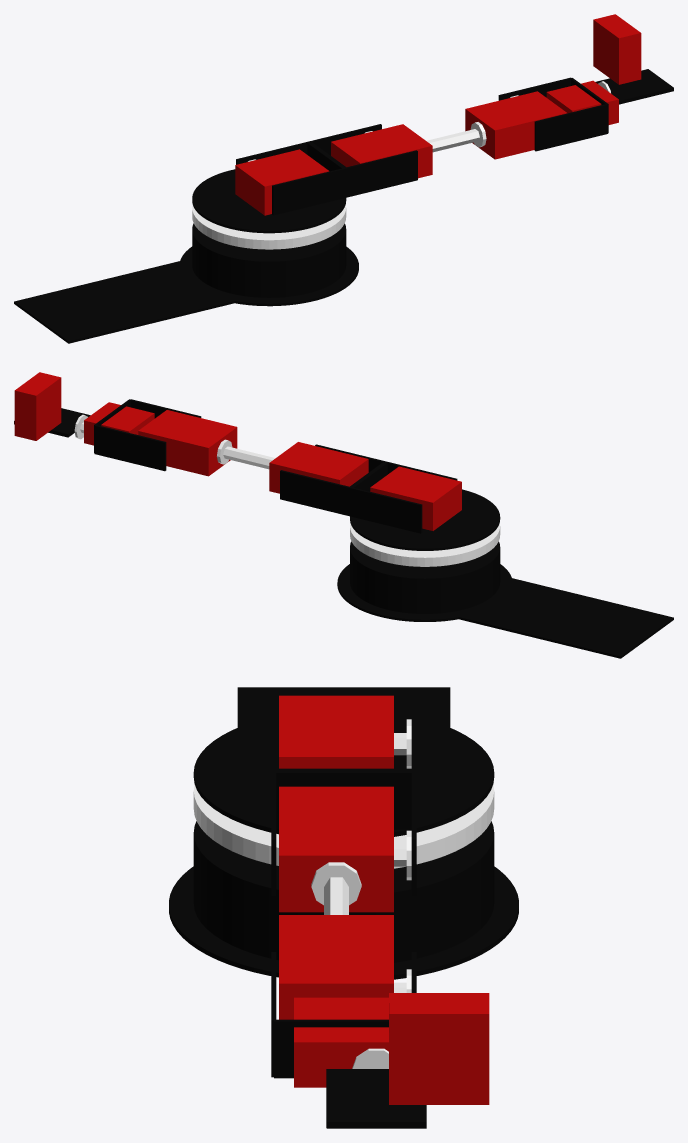
Rendered from robot_arm_hand.dae.
3 renders of one model, top to bottom at view 1: azimuth 30°, elevation 25°; view 2: azimuth 150°, elevation 25°; view 3: azimuth 270°, elevation 25°, orthographic. The views are drawn at different scales.
Visible parts, largest first — view 1: base_box, base_black, base_link_rot, link3, link1, link2, right_finger_servo, base_white, link1_frame4, link3_frame3, link1_frame5, base_link (+6 smaller); view 2: base_box, base_black, base_link_rot, link3, link1, link2, right_finger_servo, base_white, link1_frame1, link3_frame1, link1_frame3, base_link (+4 smaller); view 3: base_black, base_link_rot, link2, right_finger_servo, link3, link1, base_link, link4, base_white, hand_base, base_box, link1_frame2 (+6 smaller).
Boxes of the visible parts, bbox=[...] form: base_box: bbox=[14, 258, 245, 343]; base_black: bbox=[192, 223, 346, 297]; base_link_rot: bbox=[192, 169, 346, 233]; link3: bbox=[465, 91, 567, 159]; link1: bbox=[235, 149, 329, 215]; link2: bbox=[331, 124, 432, 178]; right_finger_servo: bbox=[593, 14, 641, 84]; base_white: bbox=[192, 204, 346, 249]; link1_frame4: bbox=[272, 168, 345, 215]; link3_frame3: bbox=[534, 104, 607, 151]; link1_frame5: bbox=[345, 150, 417, 197]; base_link: bbox=[179, 246, 358, 306]; base_box: bbox=[443, 578, 673, 658]; base_black: bbox=[350, 541, 500, 613]; base_link_rot: bbox=[350, 489, 500, 550]; link3: bbox=[138, 410, 237, 476]; link1: bbox=[370, 466, 461, 530]; link2: bbox=[269, 442, 368, 493]; right_finger_servo: bbox=[14, 372, 61, 440]; base_white: bbox=[350, 523, 500, 566]; link1_frame1: bbox=[350, 487, 422, 533]; link3_frame1: bbox=[94, 425, 166, 471]; link1_frame3: bbox=[280, 470, 351, 516]; base_link: bbox=[337, 564, 512, 621]; base_black: bbox=[193, 821, 494, 962]; base_link_rot: bbox=[193, 713, 494, 836]; link2: bbox=[279, 786, 393, 912]; right_finger_servo: bbox=[389, 993, 489, 1104]; link3: bbox=[279, 915, 393, 1019]; link1: bbox=[279, 695, 393, 768]; base_link: bbox=[169, 866, 518, 979]; link4: bbox=[294, 997, 388, 1087]; base_white: bbox=[193, 784, 494, 868]; hand_base: bbox=[326, 1069, 426, 1128]; base_box: bbox=[237, 687, 450, 727]; link1_frame2: bbox=[274, 768, 413, 829].
Bounding box in the file's own units: 5.65 × 1.4 × 1.14.
